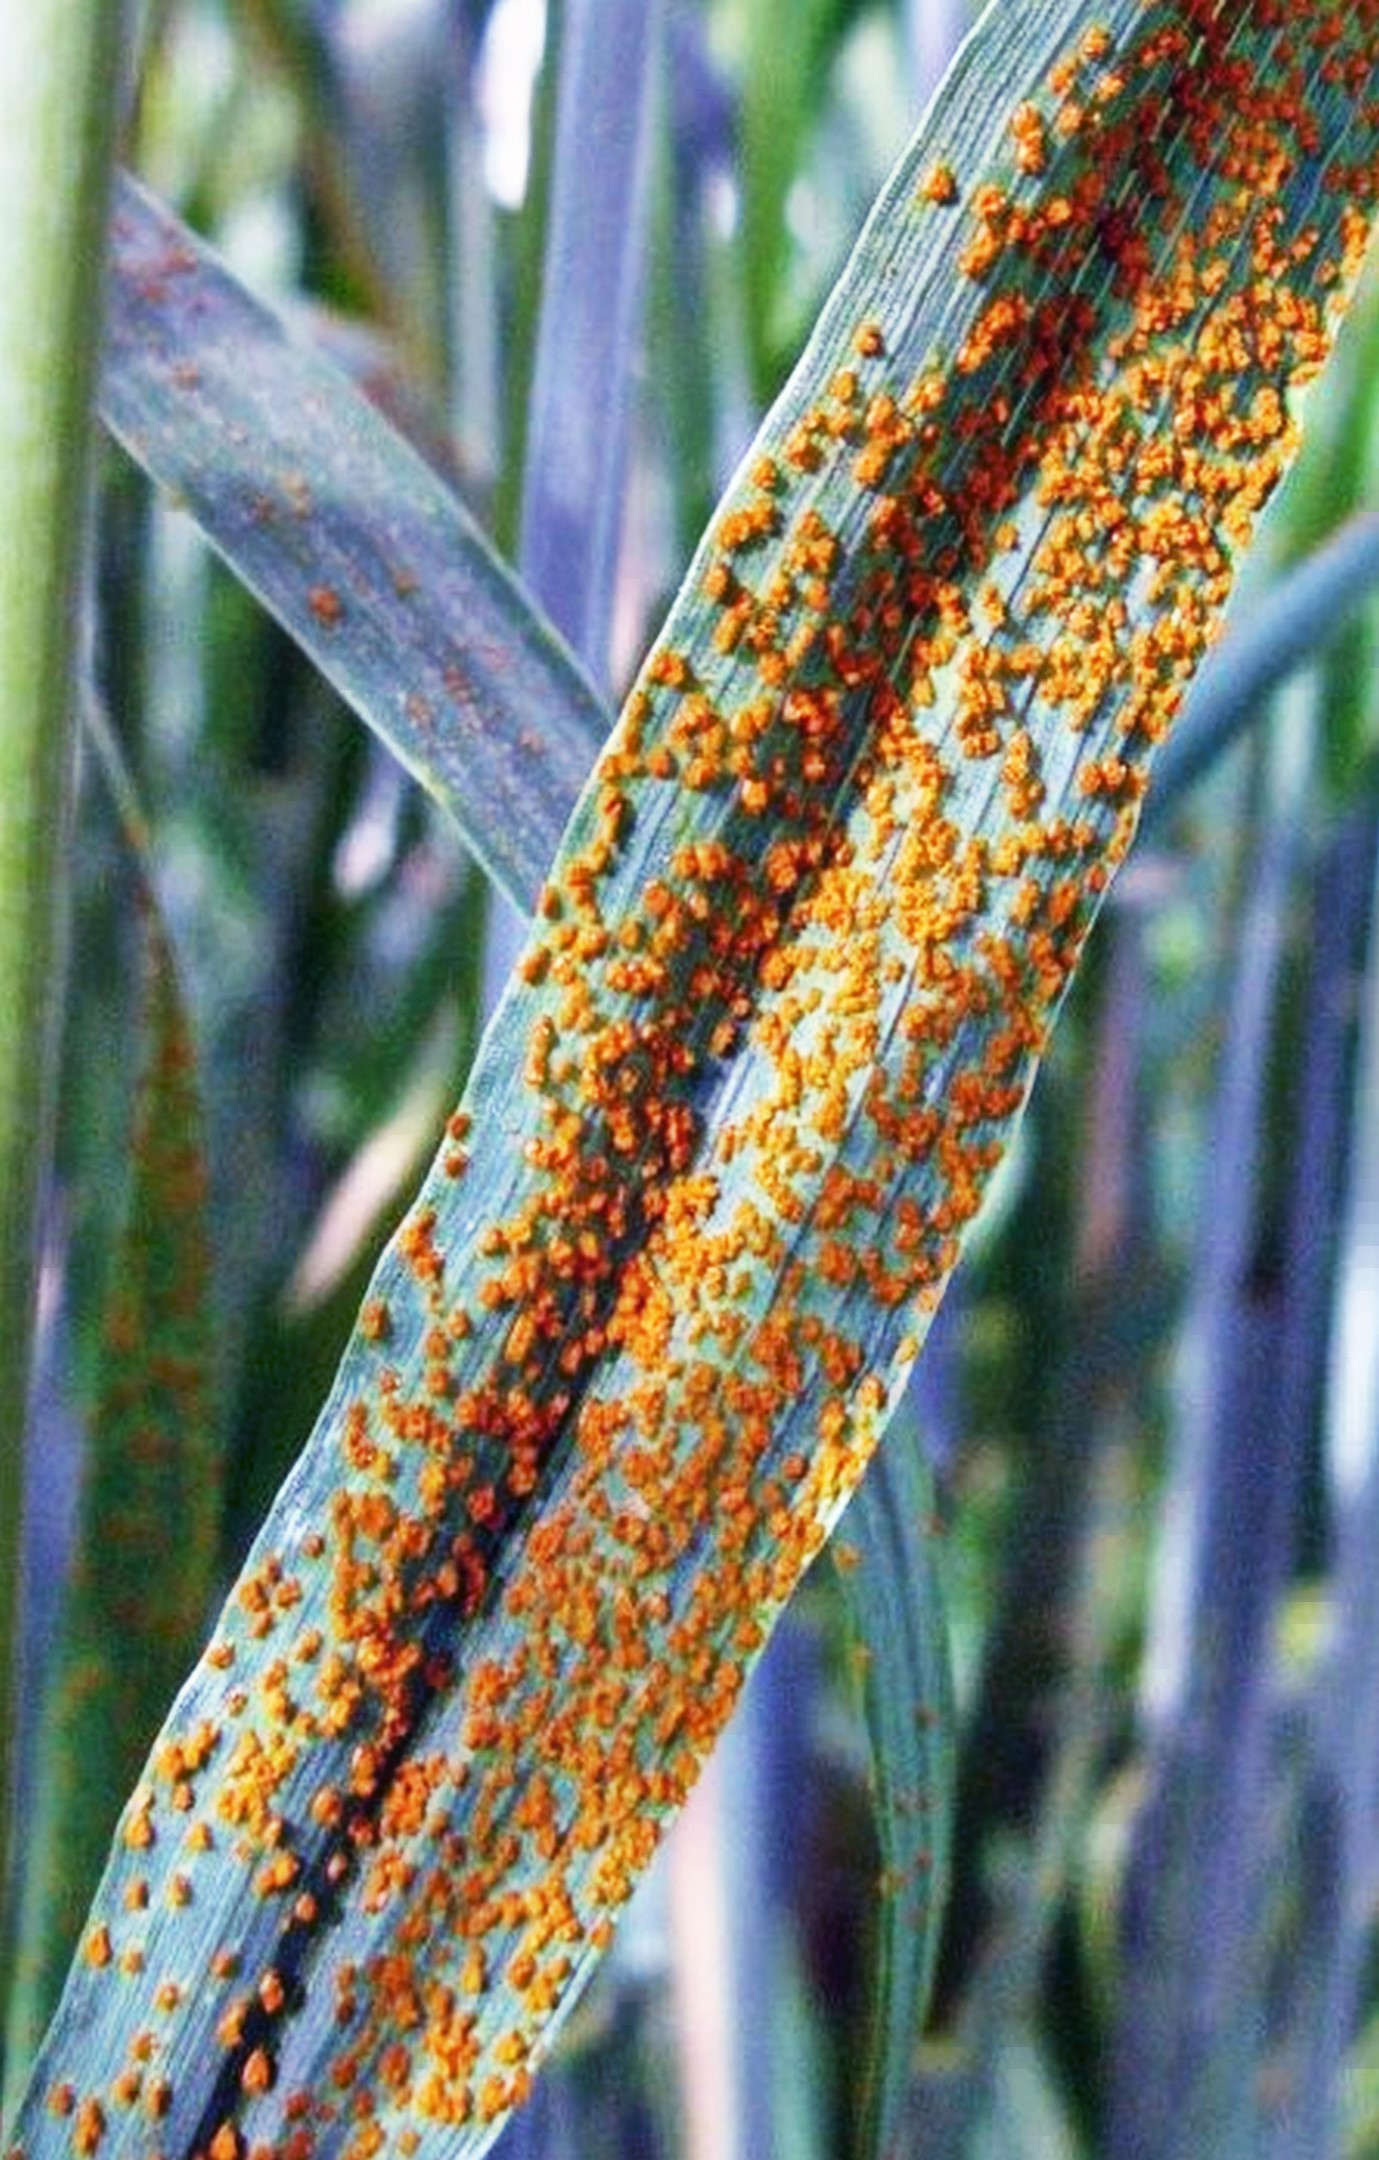Leaf Rust: (201, 91, 1307, 2103)
